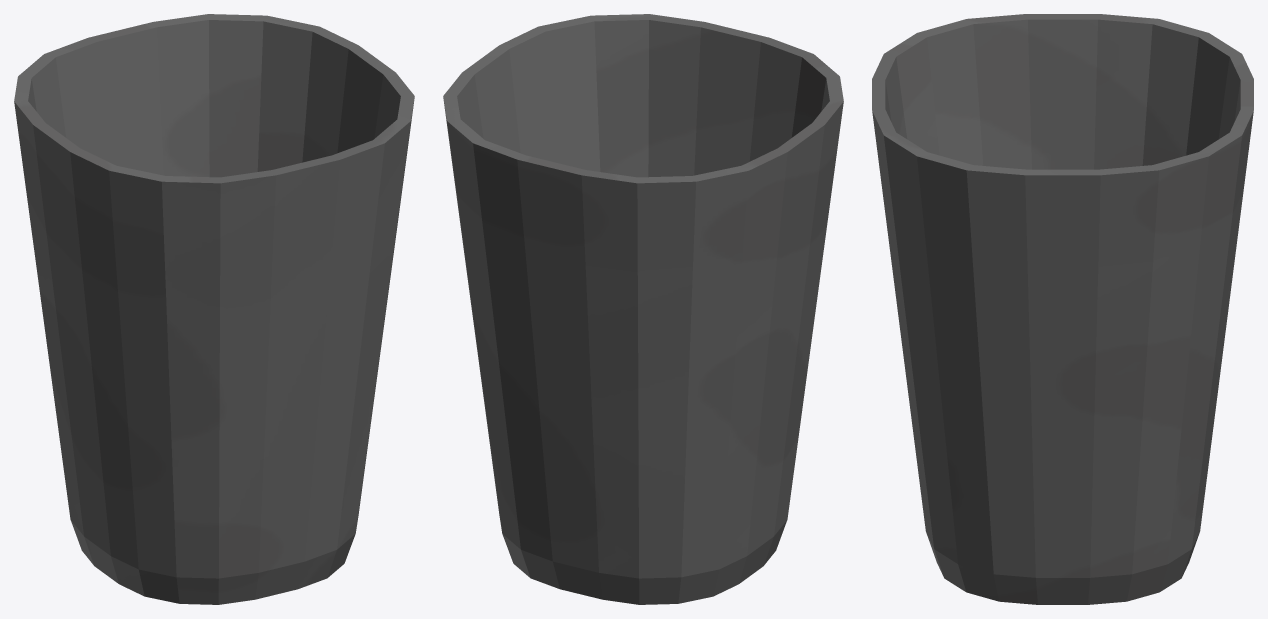
The model's file is Trashcan.fbx.
3 views of the same model, side by side, from view 1: azimuth 30°, elevation 25°; view 2: azimuth 150°, elevation 25°; view 3: azimuth 270°, elevation 25° (orthographic).
Parts seen in each view (by area): view 1: Cube.001; view 2: Cube.001; view 3: Cube.001.
Part boxes in pixels (left/top/right/bottom): Cube.001: left=14, top=14, right=414, bottom=604; Cube.001: left=443, top=14, right=843, bottom=604; Cube.001: left=872, top=14, right=1253, bottom=604.
Bounding box in the file's own units: 161 × 212 × 161.
